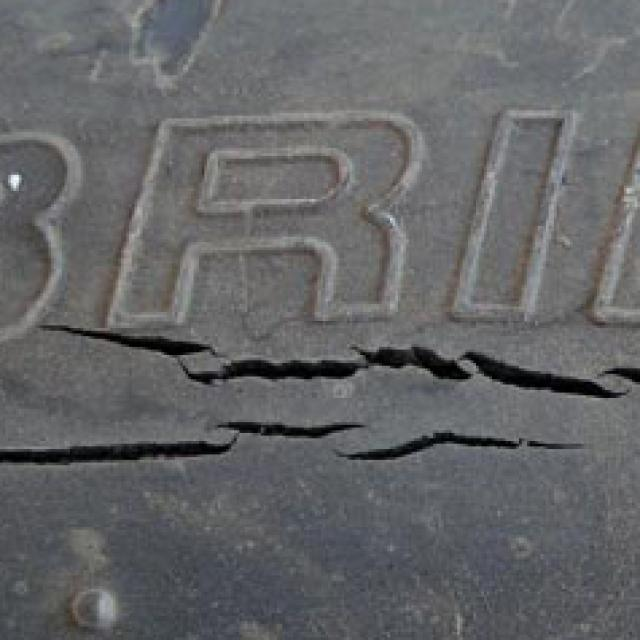Cracks: (0, 263, 640, 529)
